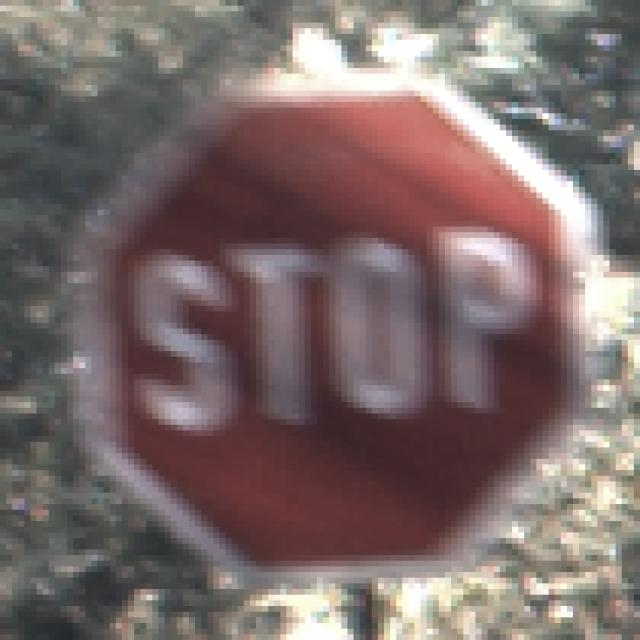STOP: (62, 58, 586, 584)
